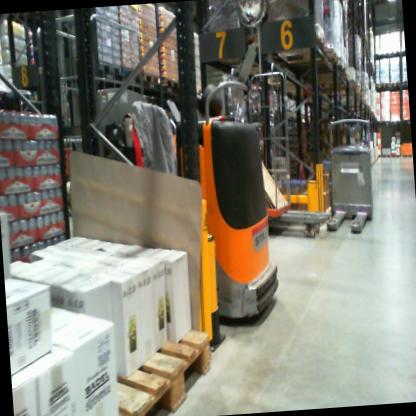pallet: (86, 302, 230, 416), (298, 73, 390, 161), (256, 45, 340, 70), (277, 22, 339, 54), (288, 51, 350, 79), (82, 52, 124, 85), (7, 83, 43, 106), (162, 70, 186, 96), (122, 63, 146, 87), (140, 67, 162, 91), (0, 81, 12, 108), (389, 151, 403, 160), (379, 80, 391, 89), (389, 79, 401, 88), (401, 152, 412, 159), (401, 79, 408, 89)
pallet_truck: (85, 60, 303, 341), (322, 102, 397, 246)
